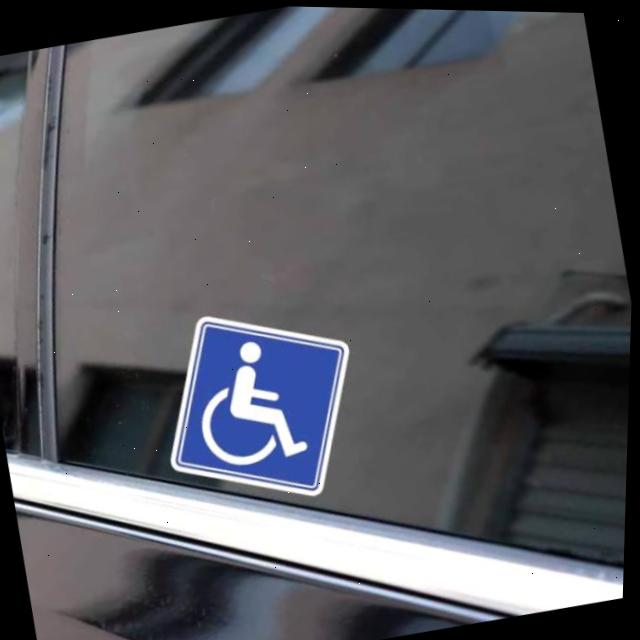symbol_of_access: (189, 322, 320, 472)
